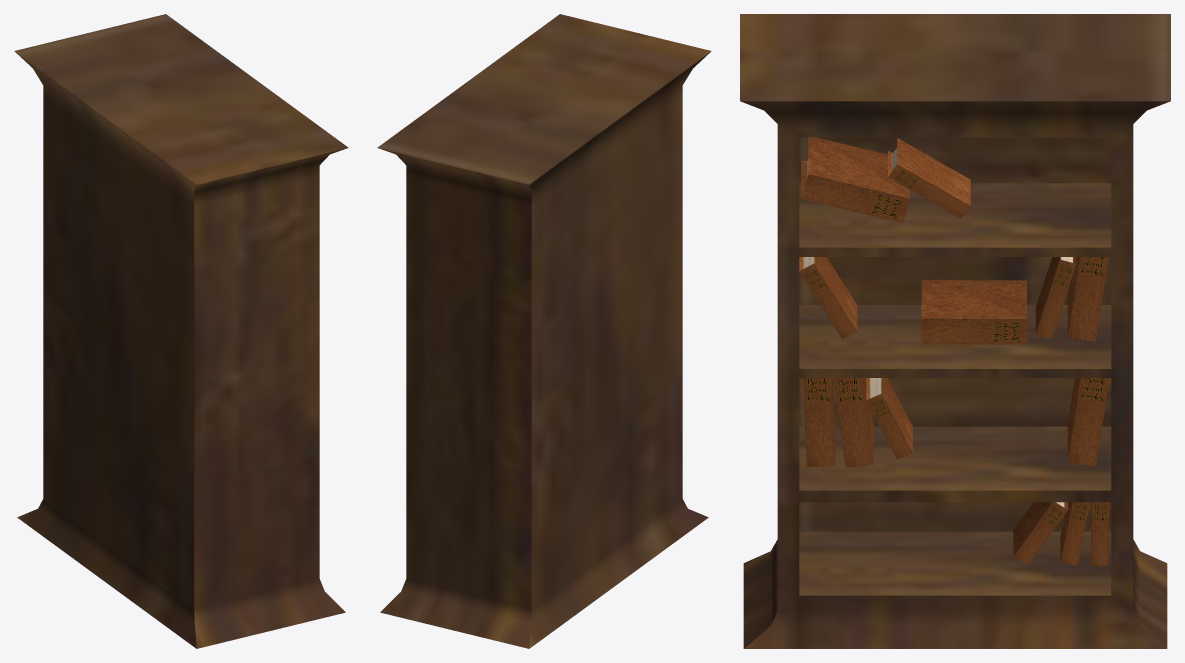
The model's file is bookshelf_with_books.fbx.
3 renders of one model, left to right at view 1: azimuth 30°, elevation 25°; view 2: azimuth 150°, elevation 25°; view 3: azimuth 270°, elevation 25°, orthographic. The views are drawn at different scales.
Visible parts, largest first — view 1: bookcase; view 2: bookcase; view 3: bookcase, book3 (×3), book2 (×4), book4, book1, book, book5, book7, book6.
Boxes of the visible parts, box(x1,y1,x2,y2) form: bookcase: box(14, 14, 348, 648); bookcase: box(377, 14, 711, 648); bookcase: box(740, 14, 1170, 648); book3 (×3): box(801, 137, 1109, 466); book2 (×4): box(866, 138, 1109, 565); book4: box(921, 280, 1026, 344); book1: box(833, 378, 873, 467); book: box(802, 378, 835, 467); book5: box(799, 257, 857, 339); book7: box(1013, 502, 1068, 564); book6: box(1060, 502, 1090, 565).
Bounding box in the file's own units: 1.16 × 3.4 × 2.42.
2 materials, 2 textured.
